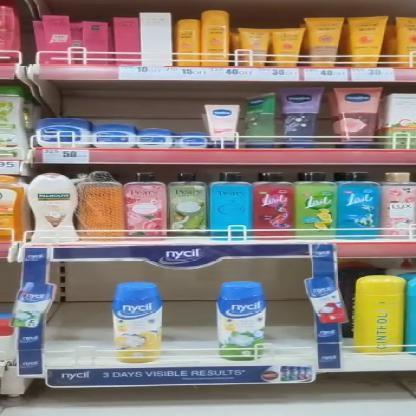Nycil Prickly Heat Powder: (115, 282, 164, 359), (216, 281, 264, 357)
